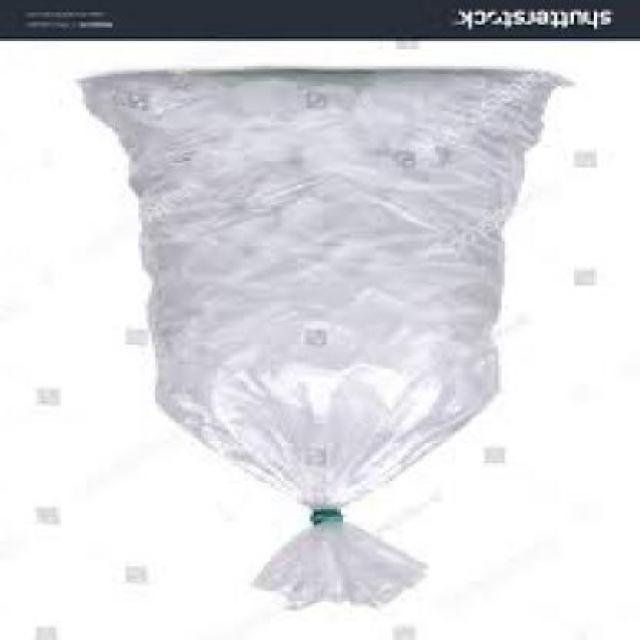PLASTIC: (85, 72, 578, 610)
